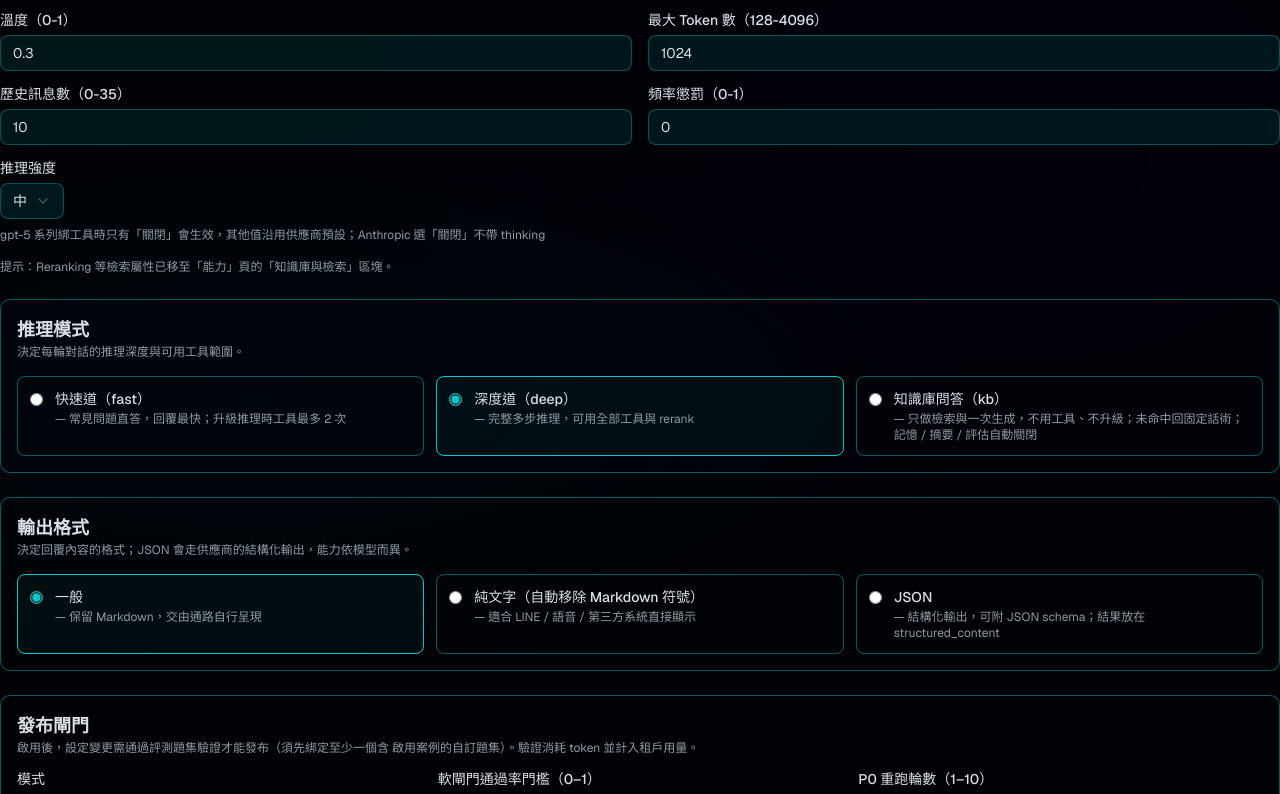
Test: BotDetailForm › kb mode & output format (Issue #70) › should offer 知識庫問答 option and only show 未命中話術 for kb
Expected: the field labelled "未命中話術" is not shown
Click the radio button labelled "知識庫問答（kb） — 只做檢索與一次生成，不用工具、不升級；未命中回固定話術；記憶 / 摘要 / 評估自動關閉" at {"x": 875, "y": 400}, box [869, 393, 882, 406]
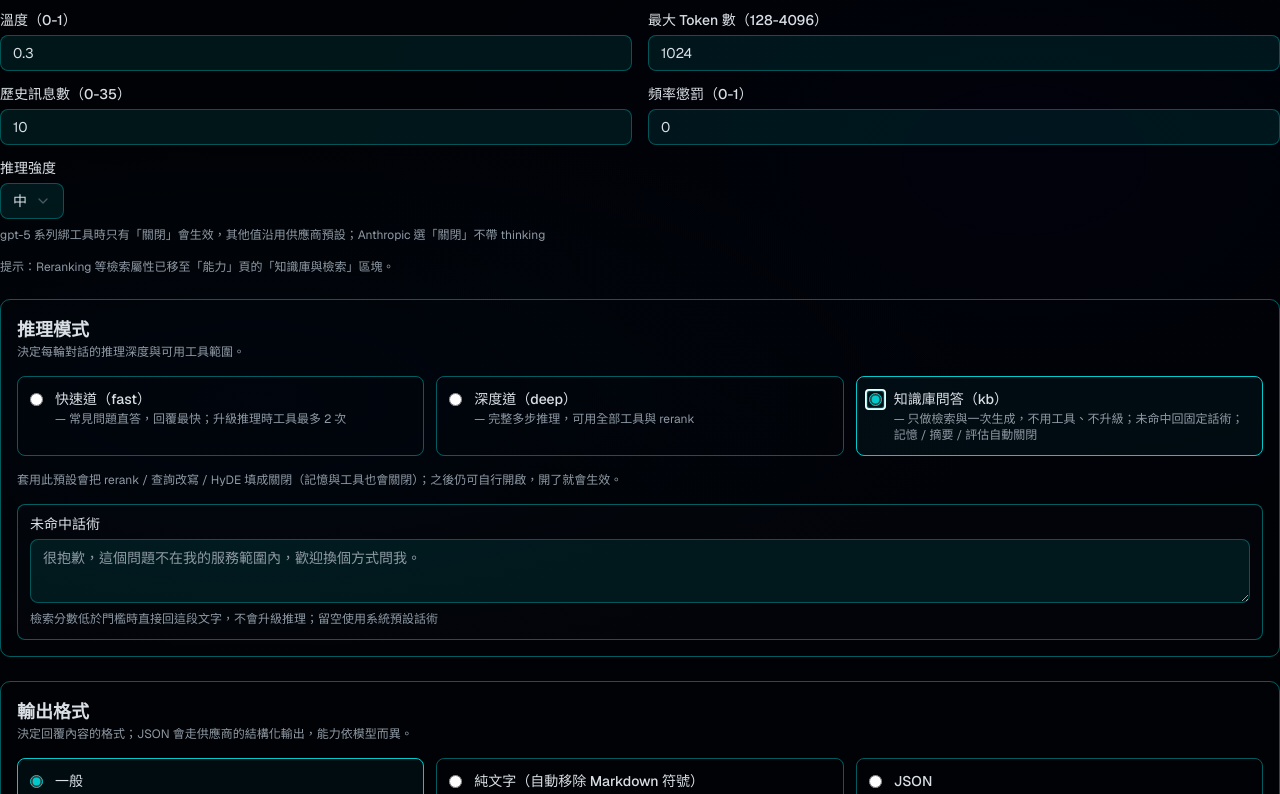
Expected: the radio button labelled "知識庫問答（kb） — 只做檢索與一次生成，不用工具、不升級；未命中回固定話術；記憶 / 摘要 / 評估自動關閉" is checked, [869, 393, 882, 406]
Click the radio button labelled "深度道（deep） — 完整多步推理，可用全部工具與 rerank" at {"x": 456, "y": 400}, box [449, 393, 462, 406]
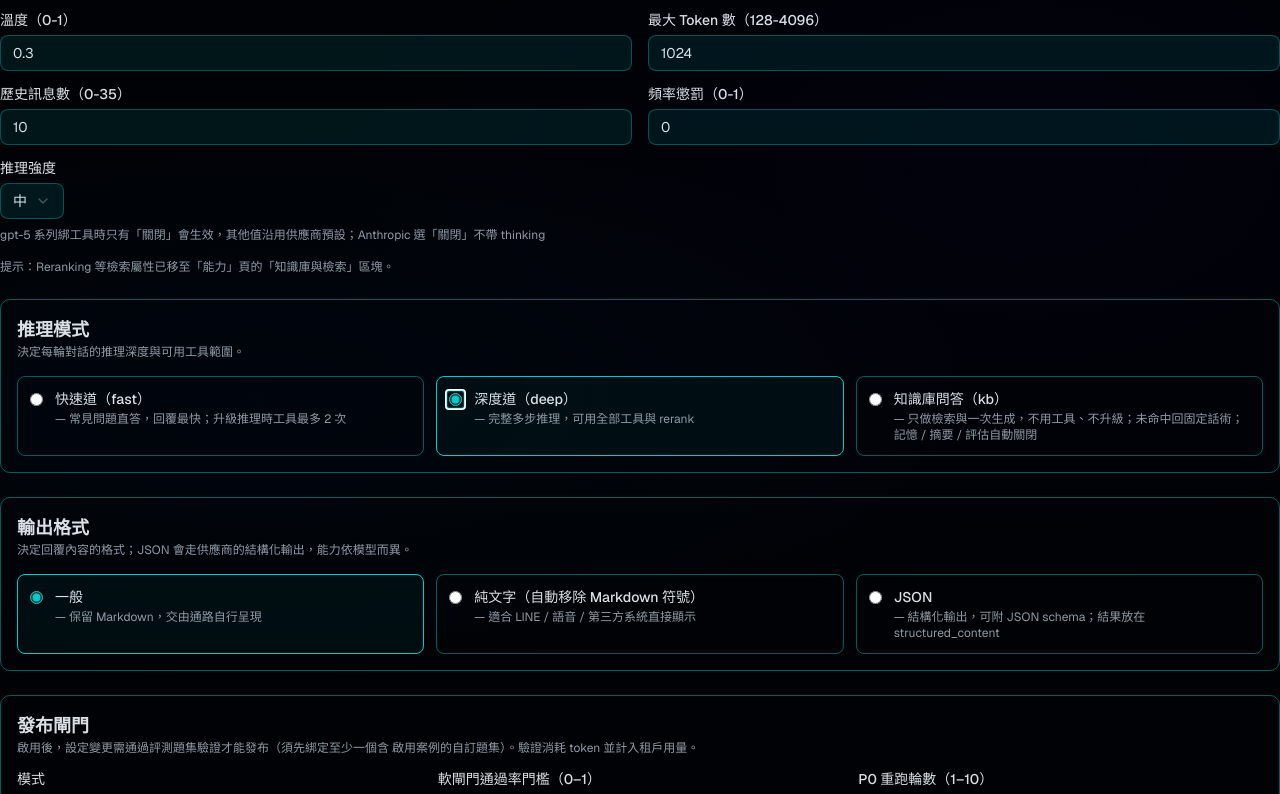
Expected: the label labelled "未命中話術" is gone
